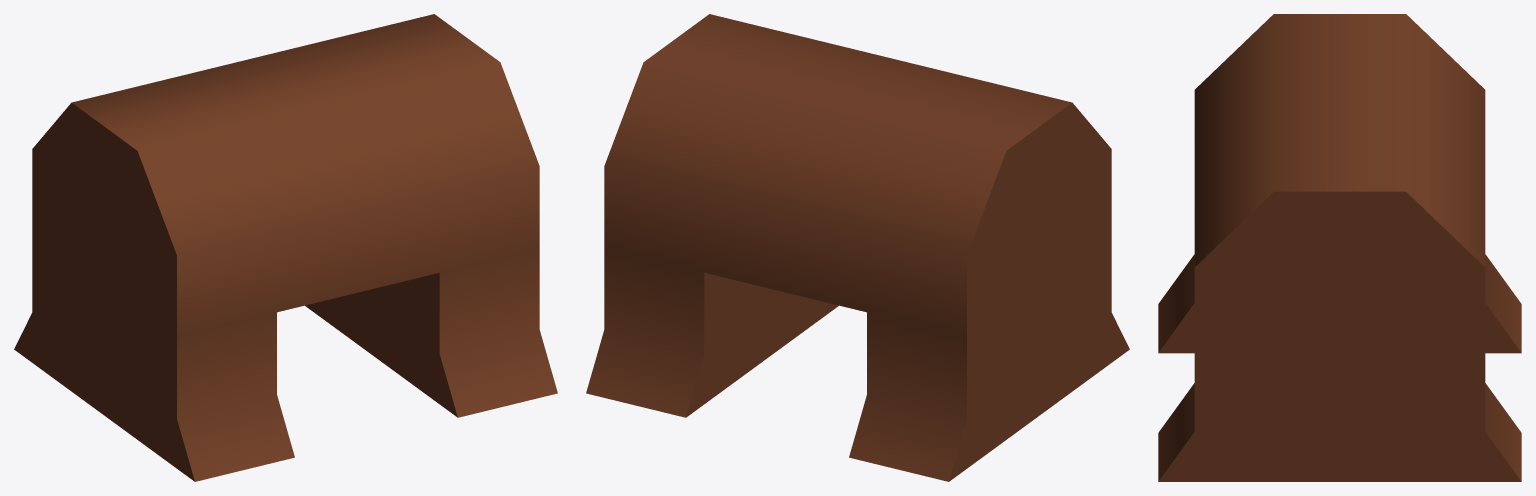
File: cannon_axle.obj
3 renders of one model, left to right at view 1: azimuth 30°, elevation 25°; view 2: azimuth 150°, elevation 25°; view 3: azimuth 270°, elevation 25°, orthographic.
Parts seen in each view (by area): view 1: Cube.001_Cube.002; view 2: Cube.001_Cube.002; view 3: Cube.001_Cube.002.
Boxes of the visible parts, x1,y1,x2,y2 form: Cube.001_Cube.002: (14, 14, 557, 481); Cube.001_Cube.002: (586, 14, 1129, 481); Cube.001_Cube.002: (1158, 14, 1521, 481).
Size of the model in its own units: 0.9548 by 0.7266 by 0.8249.
